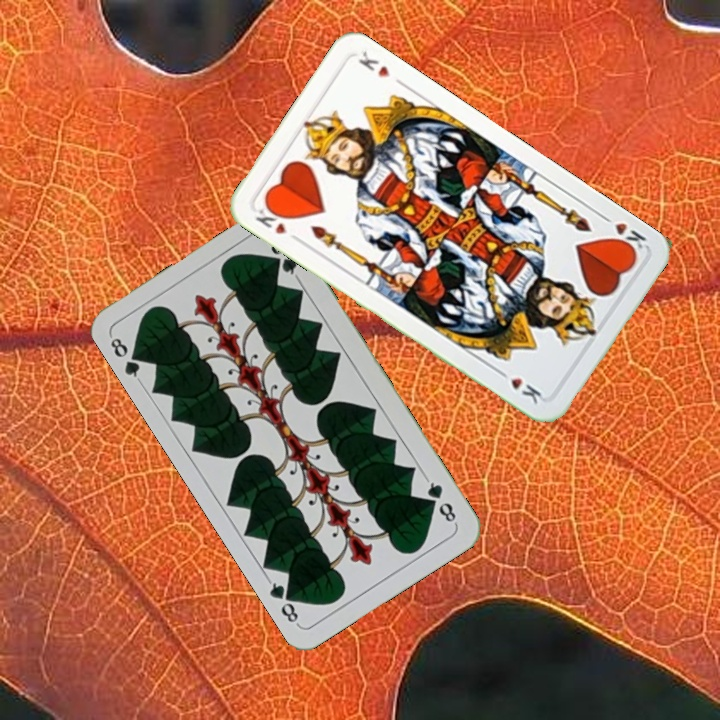G8: (106, 331, 148, 385), (421, 474, 459, 527)
HK: (596, 210, 649, 257), (251, 200, 303, 245)
